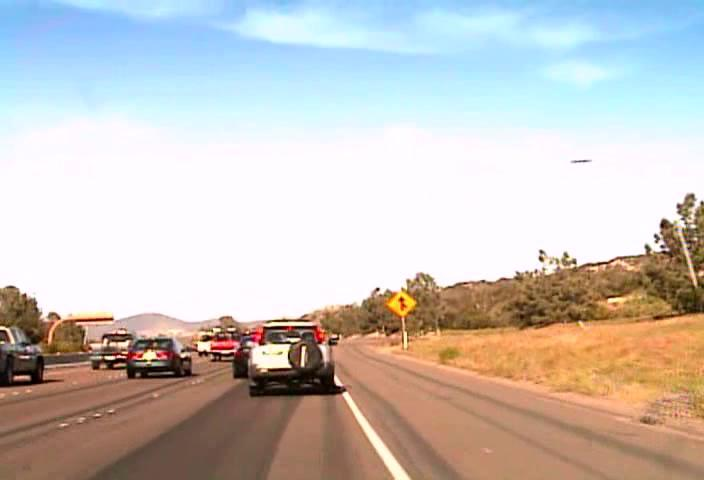merge: (385, 288, 418, 317)
